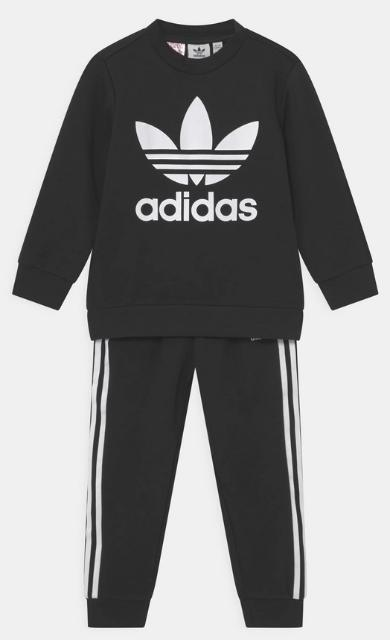Adidas: (130, 96, 266, 230), (132, 95, 266, 187), (133, 189, 265, 229), (192, 44, 208, 60), (192, 44, 210, 54), (193, 54, 206, 60)
